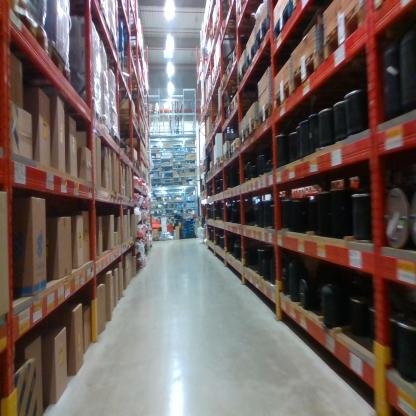pallet: (322, 5, 405, 79), (14, 46, 73, 84), (8, 4, 53, 48), (291, 54, 328, 104), (270, 3, 303, 51), (219, 16, 264, 45), (66, 105, 102, 129), (251, 14, 272, 51), (273, 85, 295, 120), (92, 32, 120, 59), (84, 5, 113, 30), (111, 111, 139, 130), (105, 122, 122, 151), (245, 41, 260, 73), (235, 62, 251, 90), (259, 97, 271, 128), (94, 60, 126, 71), (120, 87, 143, 102), (102, 112, 114, 138), (126, 152, 140, 174), (229, 86, 241, 111), (247, 120, 259, 139), (216, 59, 228, 76), (223, 146, 232, 168), (225, 98, 232, 123), (240, 127, 248, 147), (232, 135, 239, 157), (231, 43, 238, 65), (220, 69, 227, 90), (227, 59, 232, 87), (216, 156, 222, 170)
